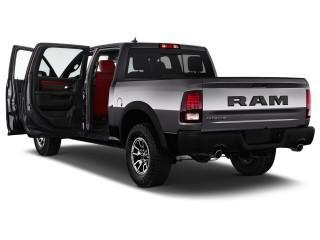ram: (225, 92, 293, 110)
